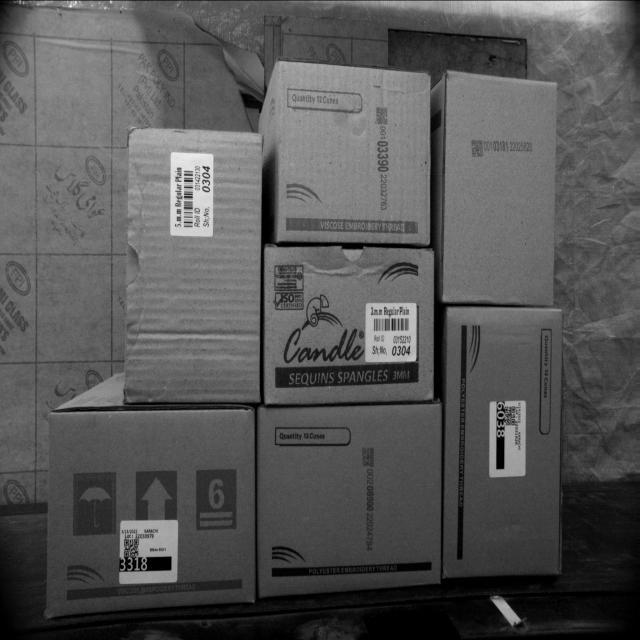box: (48, 407, 258, 612), (128, 126, 262, 406), (260, 404, 440, 589), (444, 307, 564, 578), (275, 60, 433, 243), (444, 69, 560, 308), (264, 243, 435, 401)
